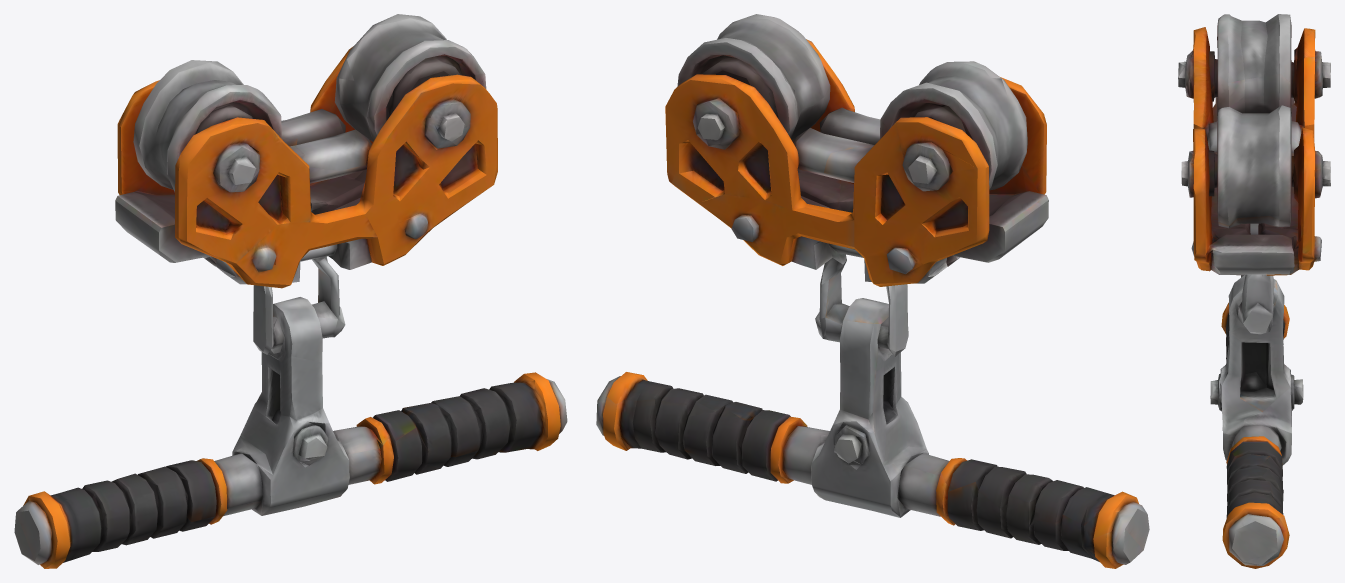
Rendered from m2ZiplineTrolleyI.glb.
The picture shows the model from 3 angles, left to right: view 1: azimuth 30°, elevation 25°; view 2: azimuth 150°, elevation 25°; view 3: azimuth 270°, elevation 25°; orthographic projection. The views are drawn at different scales.
Visible parts, largest first — view 1: model; view 2: model; view 3: model.
Part boxes in pixels (left/top/right/bottom): model: left=14, top=14, right=567, bottom=568; model: left=596, top=14, right=1149, bottom=568; model: left=1178, top=14, right=1330, bottom=568.
Size of the model in its own units: 1.89 by 1.55 by 0.5299.
1 material, 1 textured.
